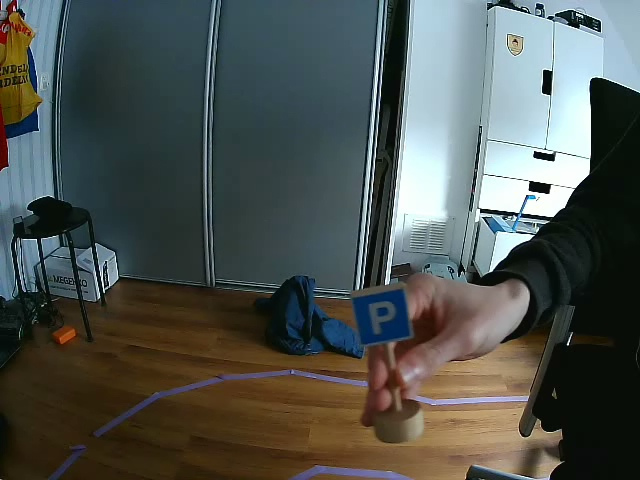parkeerbord: (353, 278, 413, 350)
